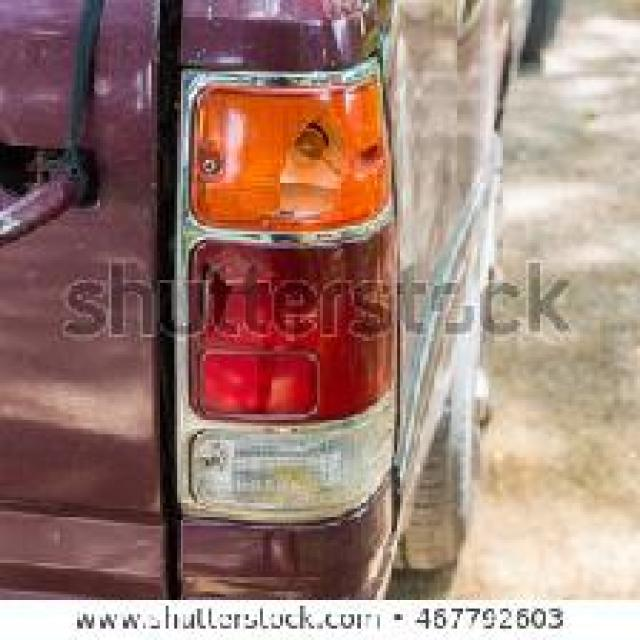tail_lamp_minor: (180, 74, 394, 520)
